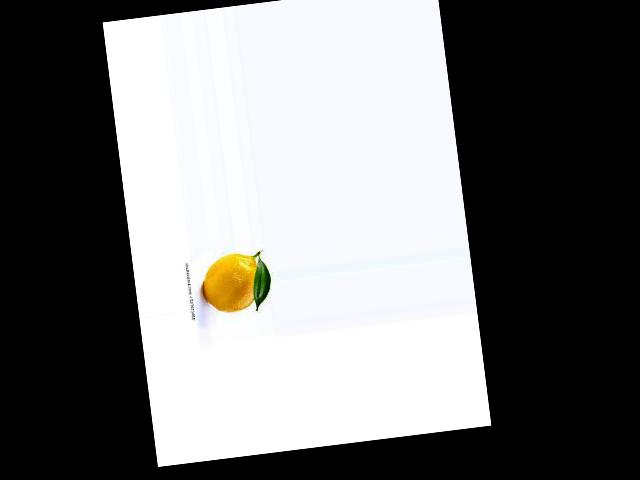lemon: (190, 246, 271, 322)
